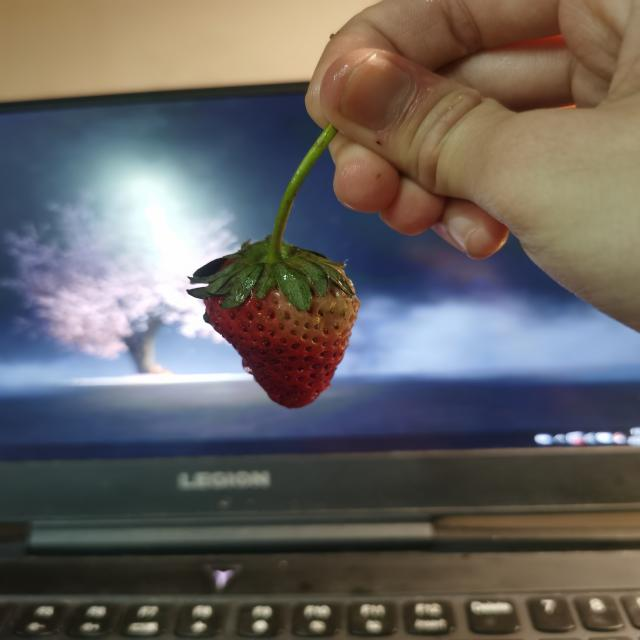stem: (266, 147, 323, 265)
strawberry: (203, 240, 361, 408)
